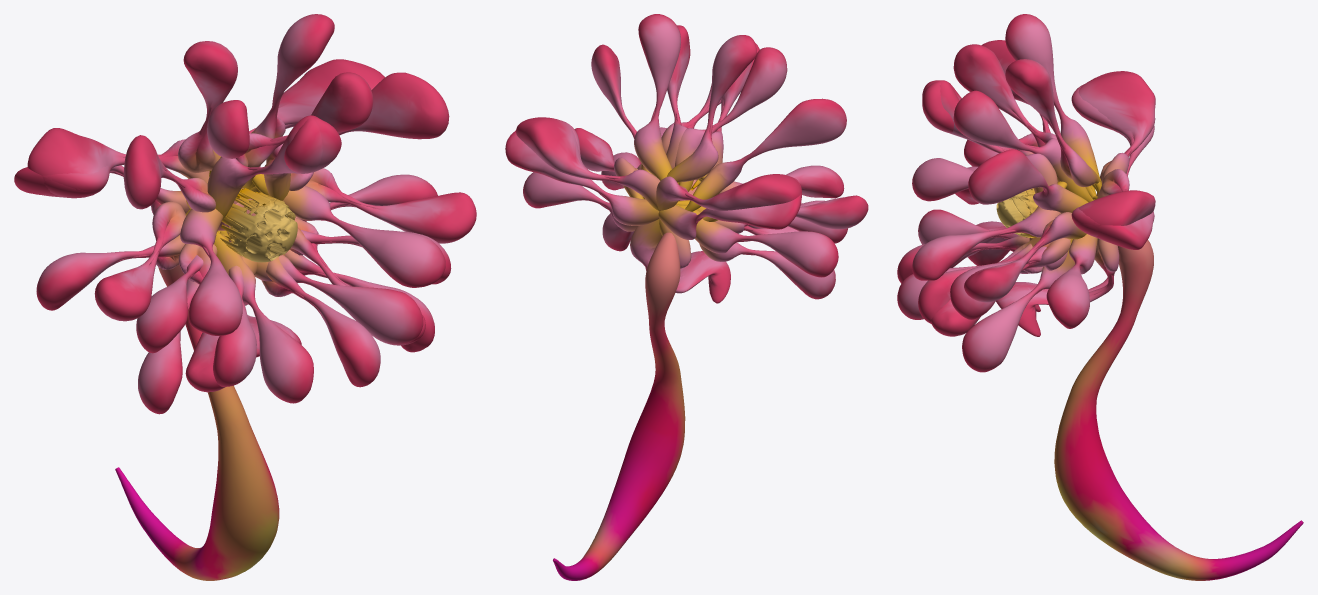
3 renders of one model, left to right at view 1: azimuth 30°, elevation 25°; view 2: azimuth 150°, elevation 25°; view 3: azimuth 270°, elevation 25°, orthographic. The views are drawn at different scales.
Visible parts, largest first — view 1: LOD 1_6177960798552739207_21c40791c56367b44a9c269bf2c0023c; view 2: LOD 1_6177960798552739207_21c40791c56367b44a9c269bf2c0023c; view 3: LOD 1_6177960798552739207_21c40791c56367b44a9c269bf2c0023c.
Part boxes in pixels (bbox=[...]): LOD 1_6177960798552739207_21c40791c56367b44a9c269bf2c0023c: bbox=[14, 14, 476, 580]; LOD 1_6177960798552739207_21c40791c56367b44a9c269bf2c0023c: bbox=[505, 14, 868, 580]; LOD 1_6177960798552739207_21c40791c56367b44a9c269bf2c0023c: bbox=[897, 14, 1303, 580].
Bounding box in the file's own units: 1.48 × 2.24 × 1.56.
